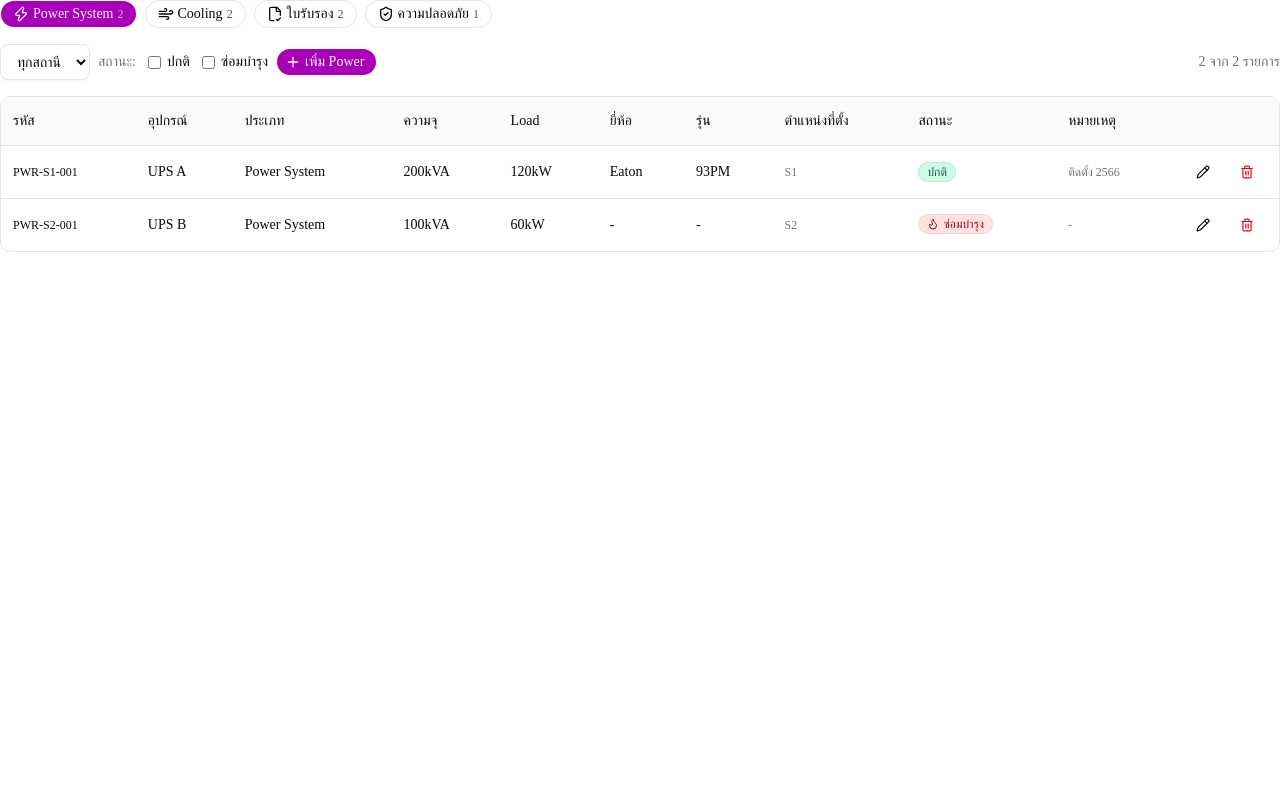
EngineeringClient — asset create/edit/delete › shows a mapped server error when asset creation fails
Click the button "เพิ่ม Power" at x=327, y=62, box [276,48,377,76]
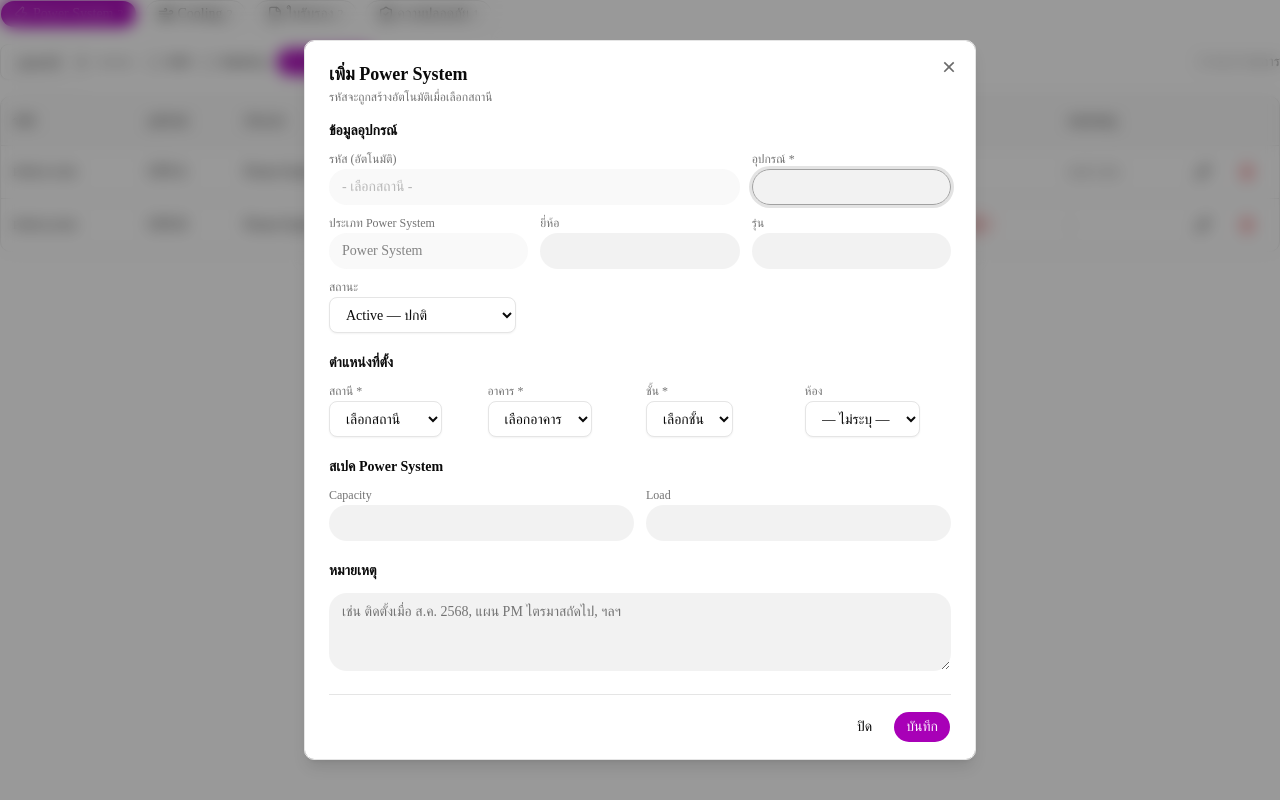
Select "S1 (สถานี 1)" in the dropdown below "สถานี *" at x=386, y=419, box [329,401,442,437]
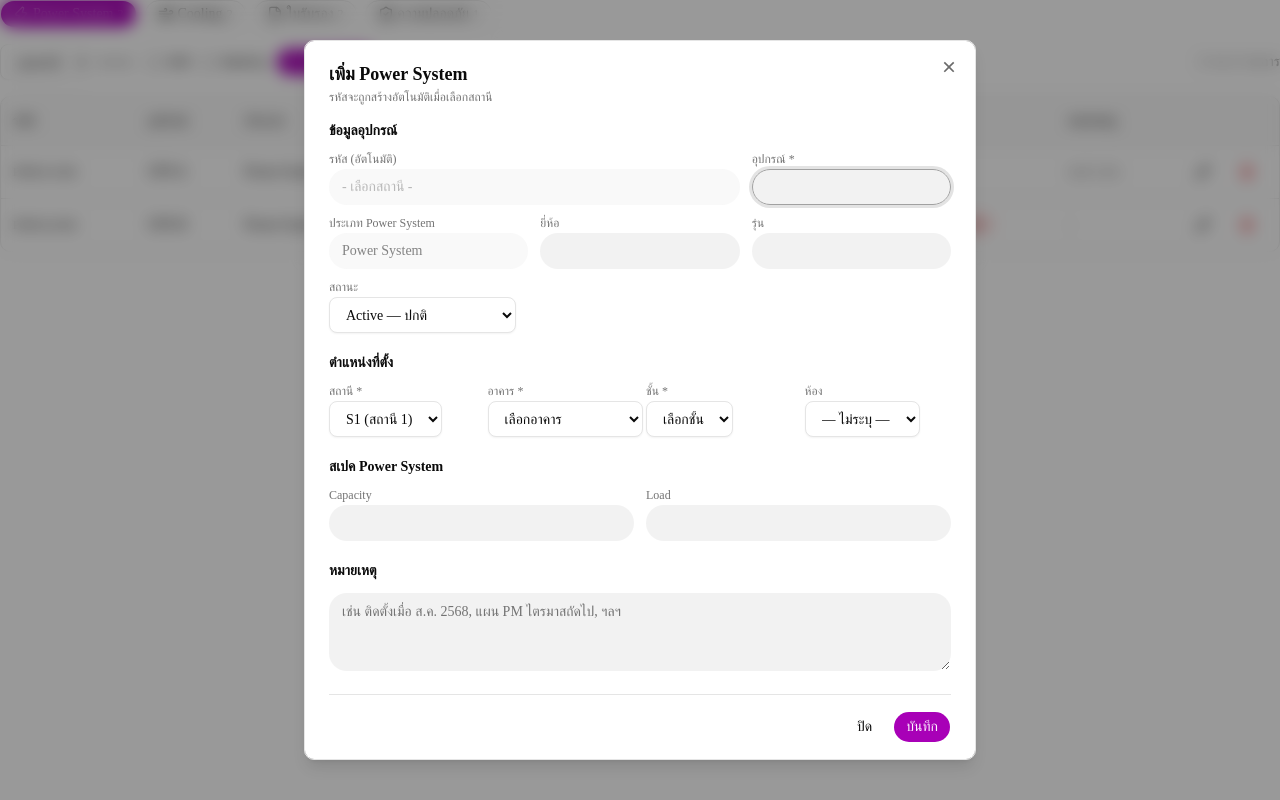
Select "S1-B01 · อาคารหลัก" in the dropdown below "อาคาร *" at x=565, y=419, box [488,401,642,437]
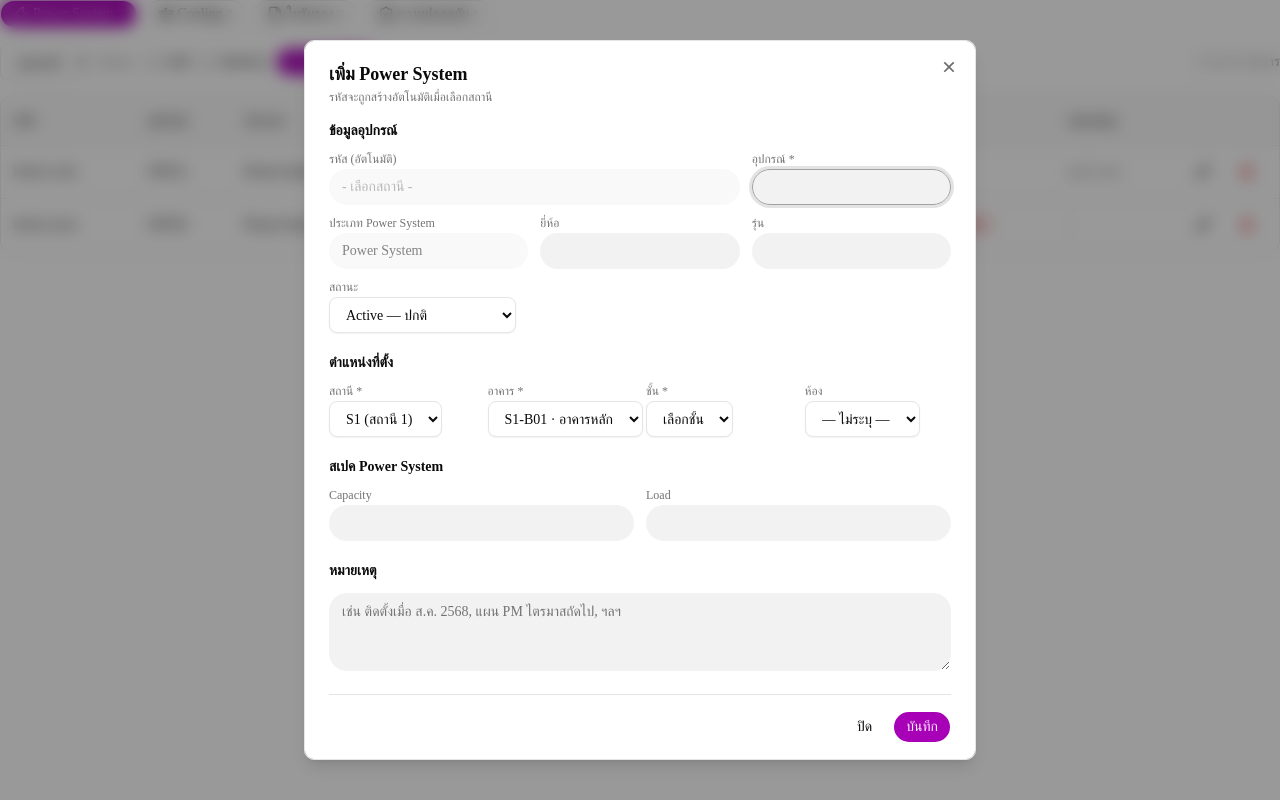
Select "ชั้น 1" in the dropdown below "ชั้น *" at x=690, y=419, box [646,401,733,437]
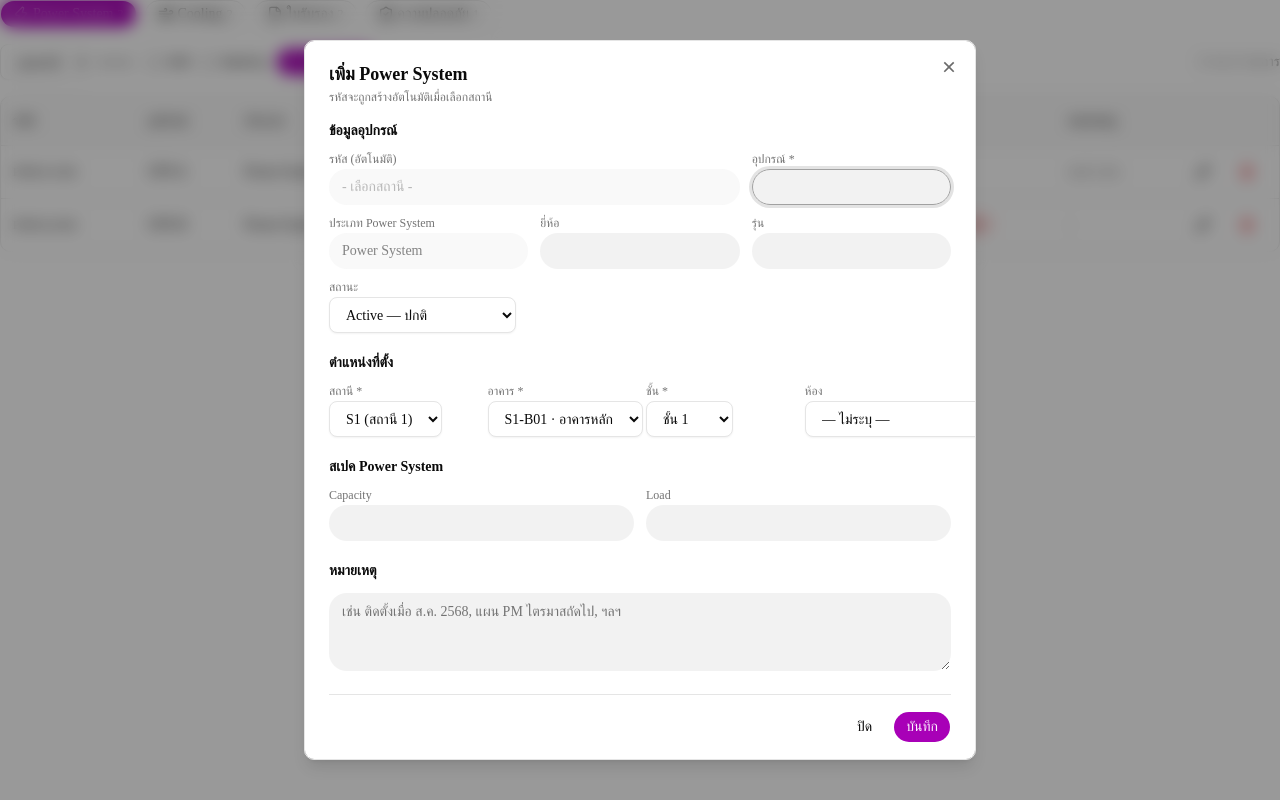
Type "จะล้มเหลว" into the field below "อุปกรณ์ *" at x=851, y=187, box [752,169,951,205]
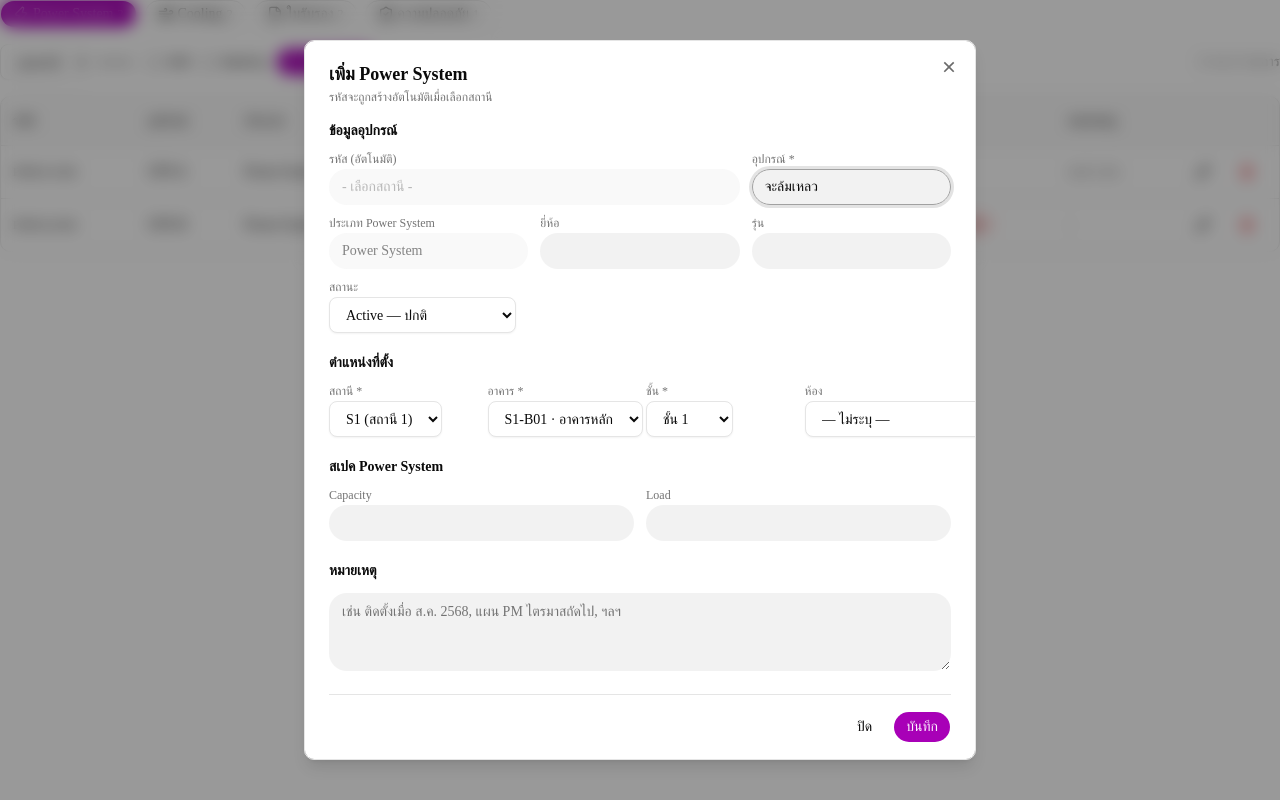
Click the button "บันทึก" at x=922, y=727, box [893,711,951,743]
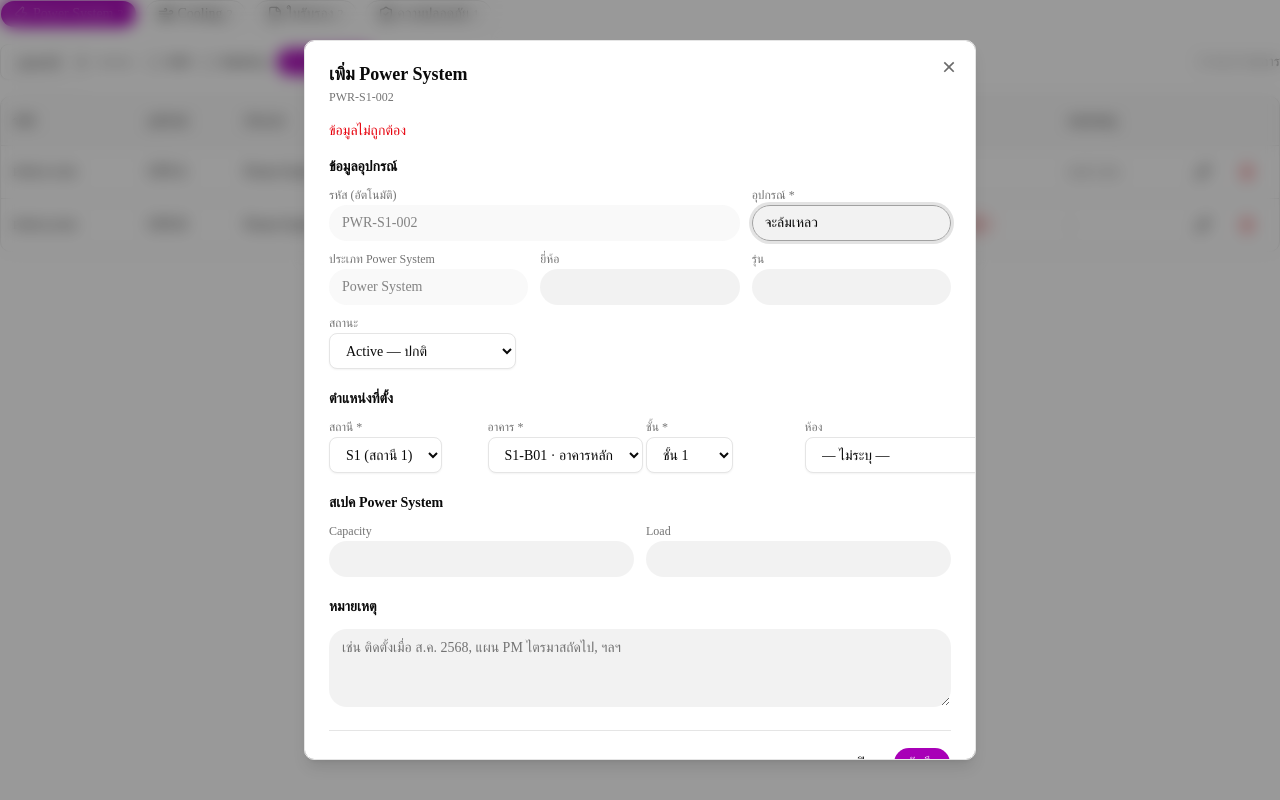
Check: the text "ข้อมูลไม่ถูกต้อง" is shown, box [329,123,406,138]
